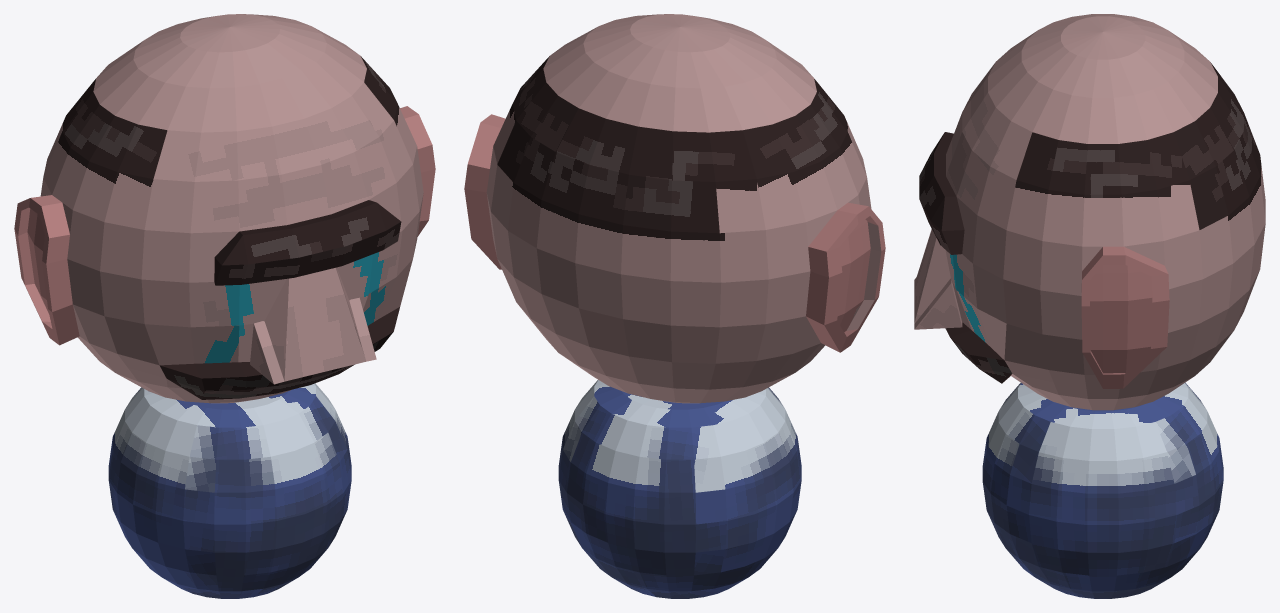
Rendered from worker.gltf.
The picture shows the model from 3 angles, left to right: view 1: azimuth 30°, elevation 25°; view 2: azimuth 150°, elevation 25°; view 3: azimuth 270°, elevation 25°; orthographic projection.
Visible parts, largest first — view 1: Head, Body; view 2: Head, Body; view 3: Head, Body.
Boxes of the visible parts, x1,y1,x2,y2 form: Head: (14,14,435,403); Body: (108,383,351,598); Head: (464,14,885,403); Body: (558,380,801,598); Head: (914,14,1265,410); Body: (982,382,1223,598).
Size of the model in its own units: 2.31 by 3.19 by 1.82.
2 materials, 2 textured.
